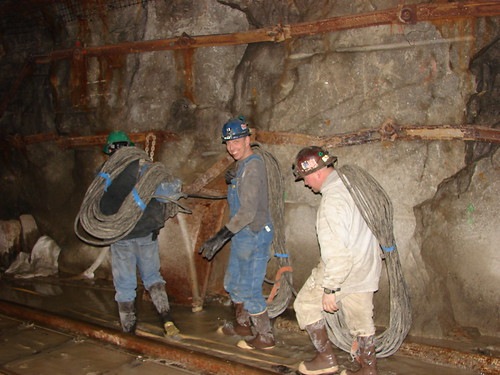person hardhat: (289, 138, 385, 375), (89, 130, 188, 337), (199, 115, 277, 354)
